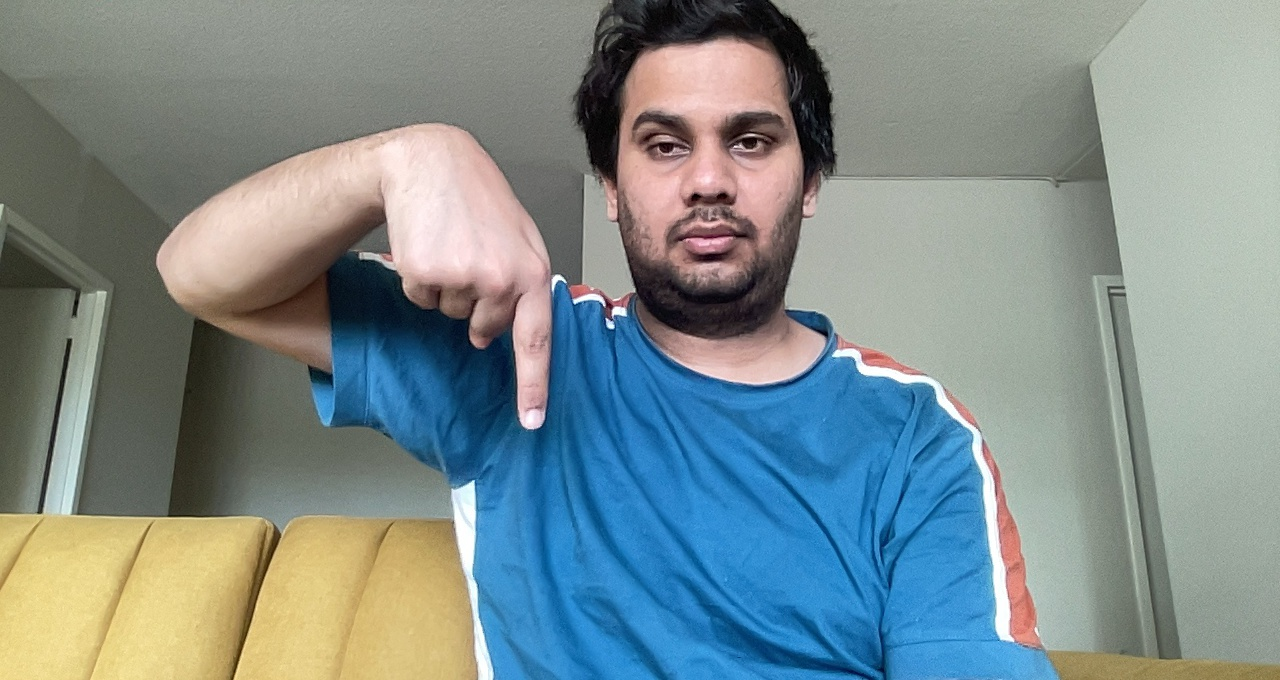fingerdown: (374, 113, 554, 437)
